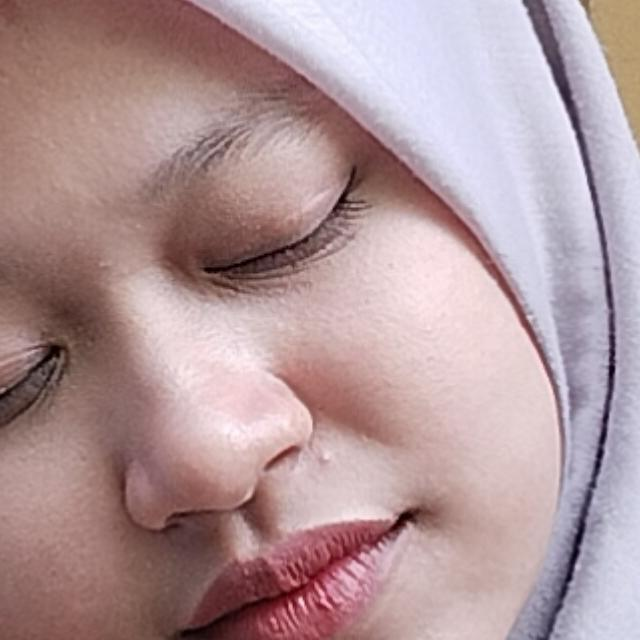tidur: (0, 338, 506, 640)
